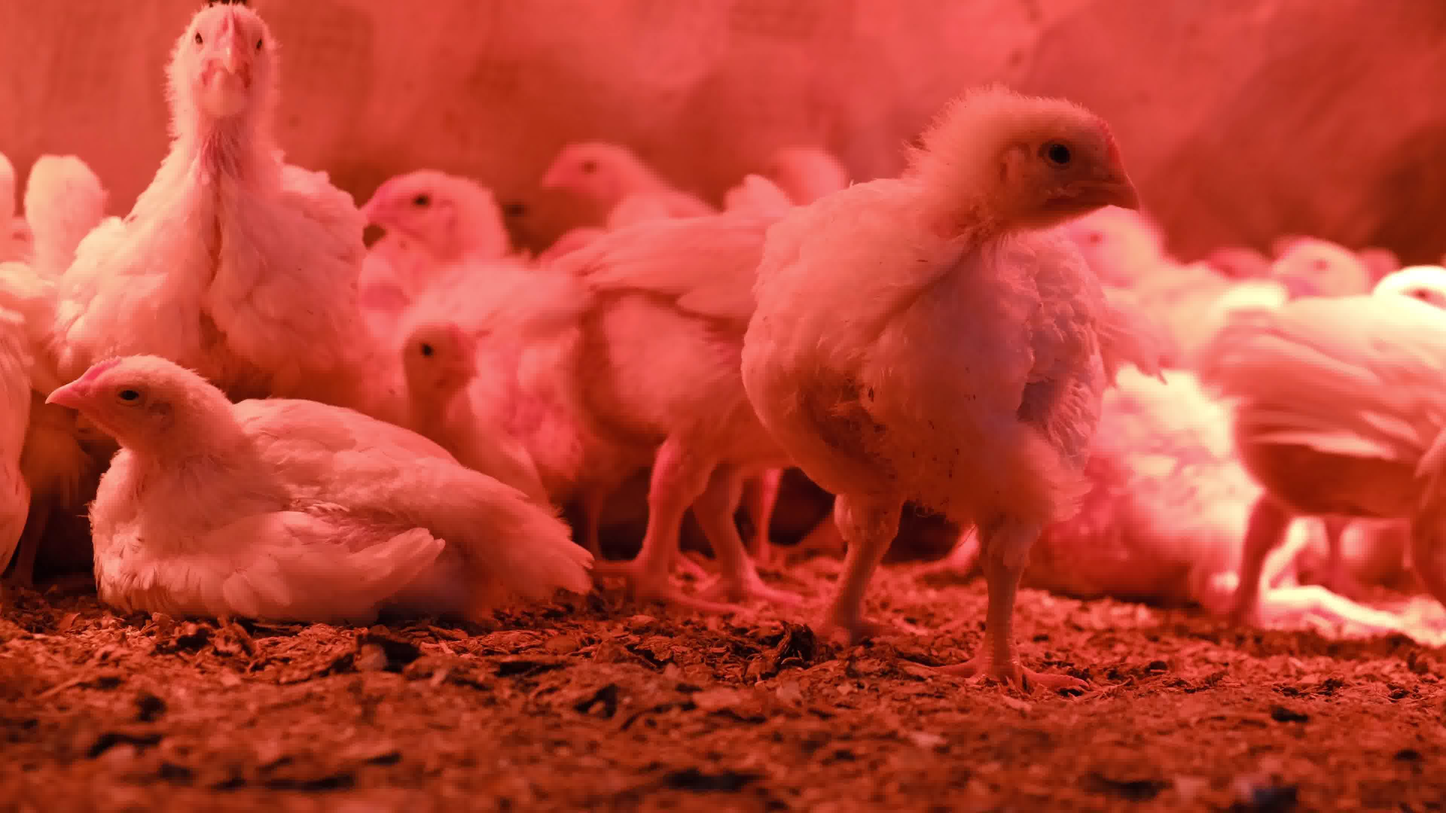AbNormal: (36, 354, 601, 608)
Normal: (768, 87, 1199, 674), (72, 0, 369, 373), (561, 205, 821, 610), (1211, 263, 1446, 632), (373, 314, 540, 455), (352, 149, 514, 265), (538, 130, 668, 248), (19, 132, 115, 267), (1254, 226, 1365, 309)
